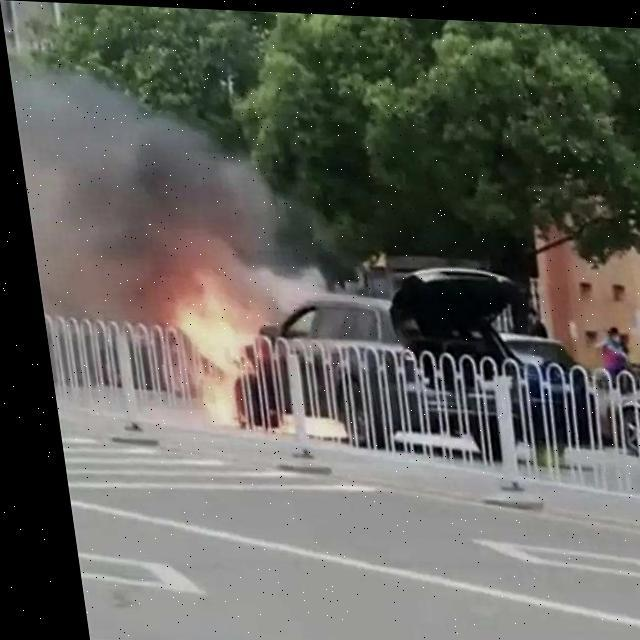Fire: (168, 280, 294, 428)
